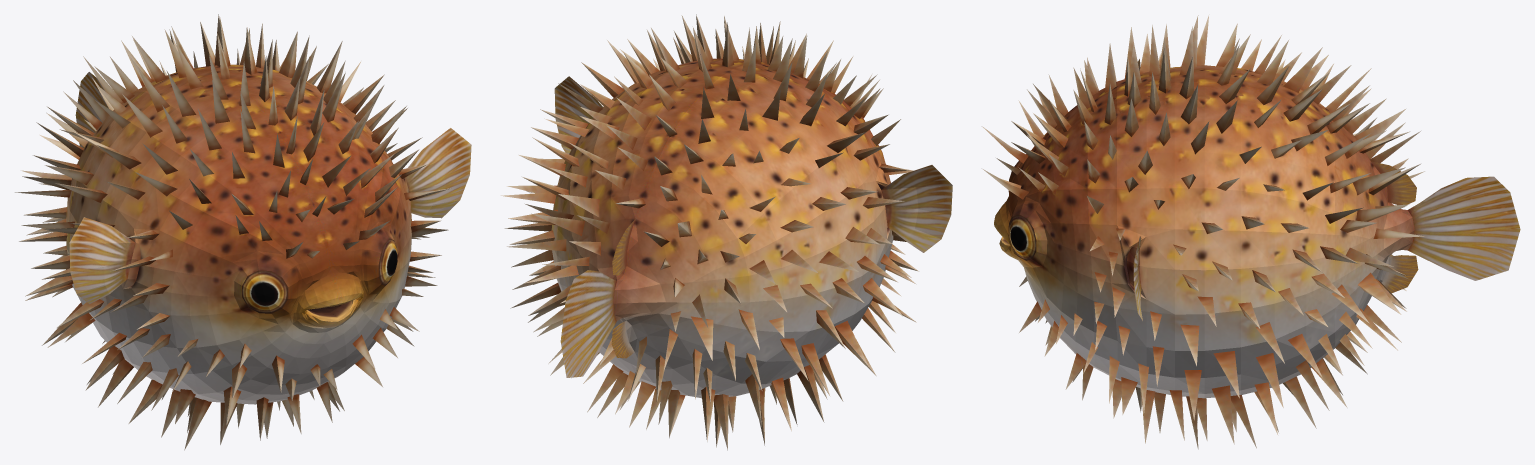
File: Puffer.obj
3 views of the same model, side by side, from view 1: azimuth 30°, elevation 25°; view 2: azimuth 150°, elevation 25°; view 3: azimuth 270°, elevation 25° (orthographic).
Parts seen in each view (by area): view 1: model4:_02___Default_1__02___Default_1_1__02___Default; view 2: model4:_02___Default_1__02___Default_1_1__02___Default; view 3: model4:_02___Default_1__02___Default_1_1__02___Default.
Part boxes in pixels (bbox=[...]): model4:_02___Default_1__02___Default_1_1__02___Default: bbox=[15, 14, 471, 450]; model4:_02___Default_1__02___Default_1_1__02___Default: bbox=[501, 14, 952, 450]; model4:_02___Default_1__02___Default_1_1__02___Default: bbox=[982, 14, 1520, 449].
Bounding box in the file's own units: 0.6087 × 0.5561 × 0.7122.
2 materials, 2 textured.
